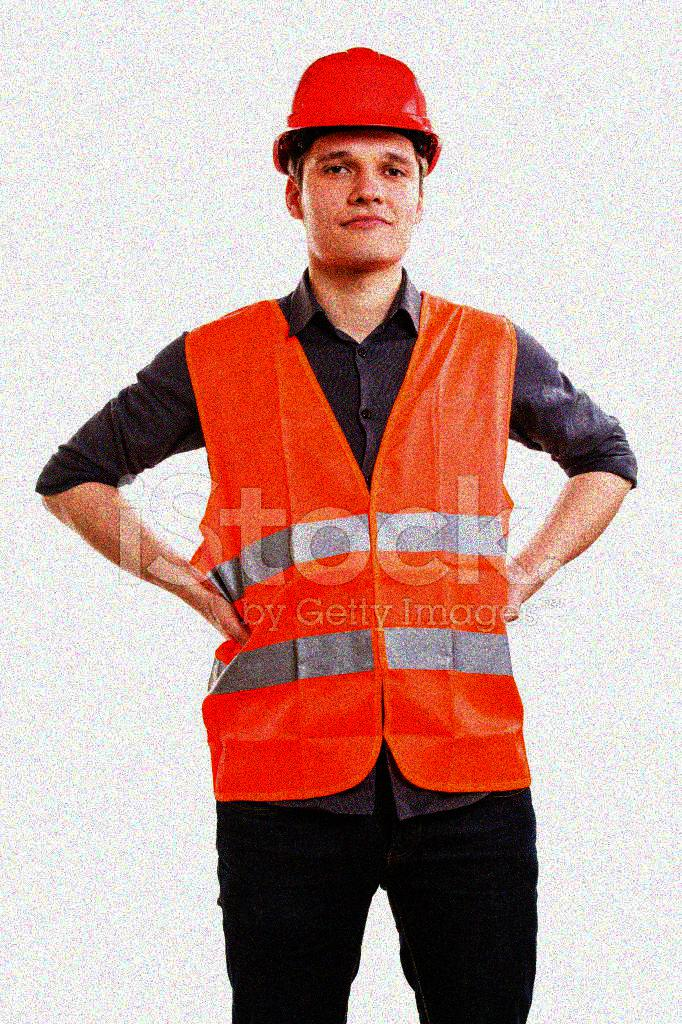helmet: (269, 44, 446, 267)
